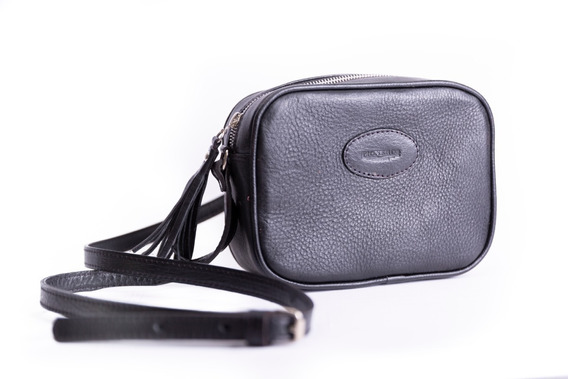cartera: (211, 70, 498, 292)
